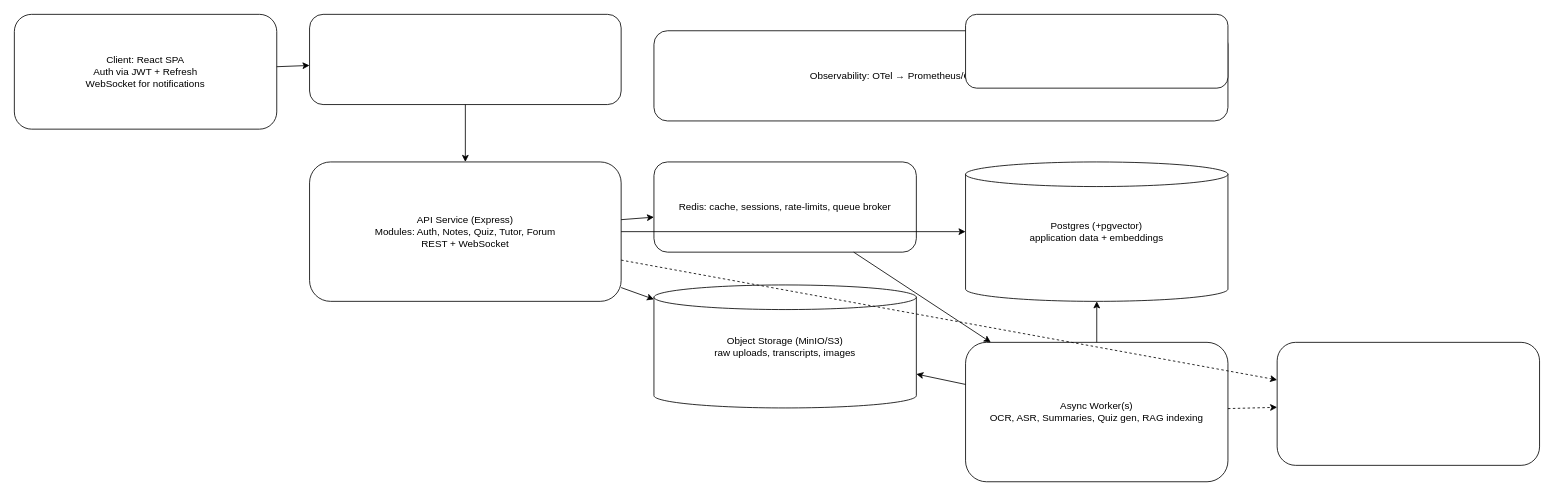
Some shapes in this 1554 by 496 pixel diagram are drawn without their labels. The centre of each missing label's shape, as x and y in pixels:
"Admin: pgAdmin, MinIO Console, Grafana" belongs at point 1096,51.
"AI Providers (LLM, STT/TTS) OpenAI/Whisper/etc." belongs at point 1408,403.
"Ingress/Reverse Proxy (Nginx) TLS, rate limits" belongs at point 465,59.
